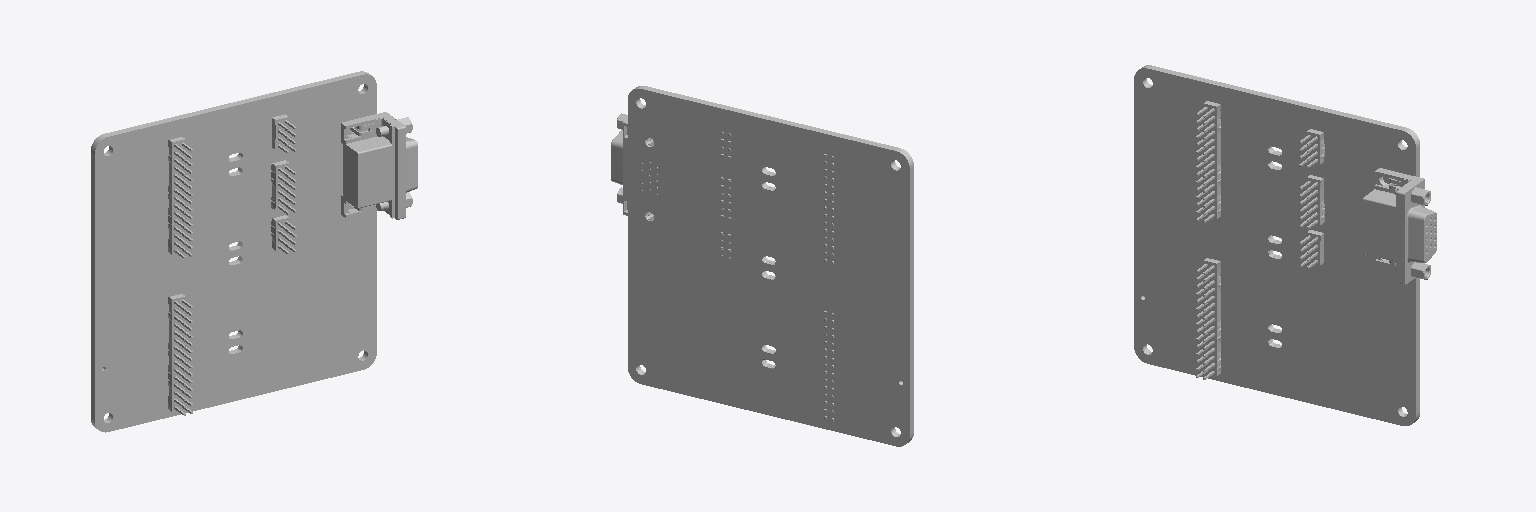
The model's file is OBJ_PCB_Video cable breakout.obj.
The picture shows the model from 3 angles: view 1: azimuth 30°, elevation 25°; view 2: azimuth 150°, elevation 25°; view 3: azimuth 330°, elevation 25°; orthographic projection.
Size of the model in its own units: 427 by 392 by 62.23.